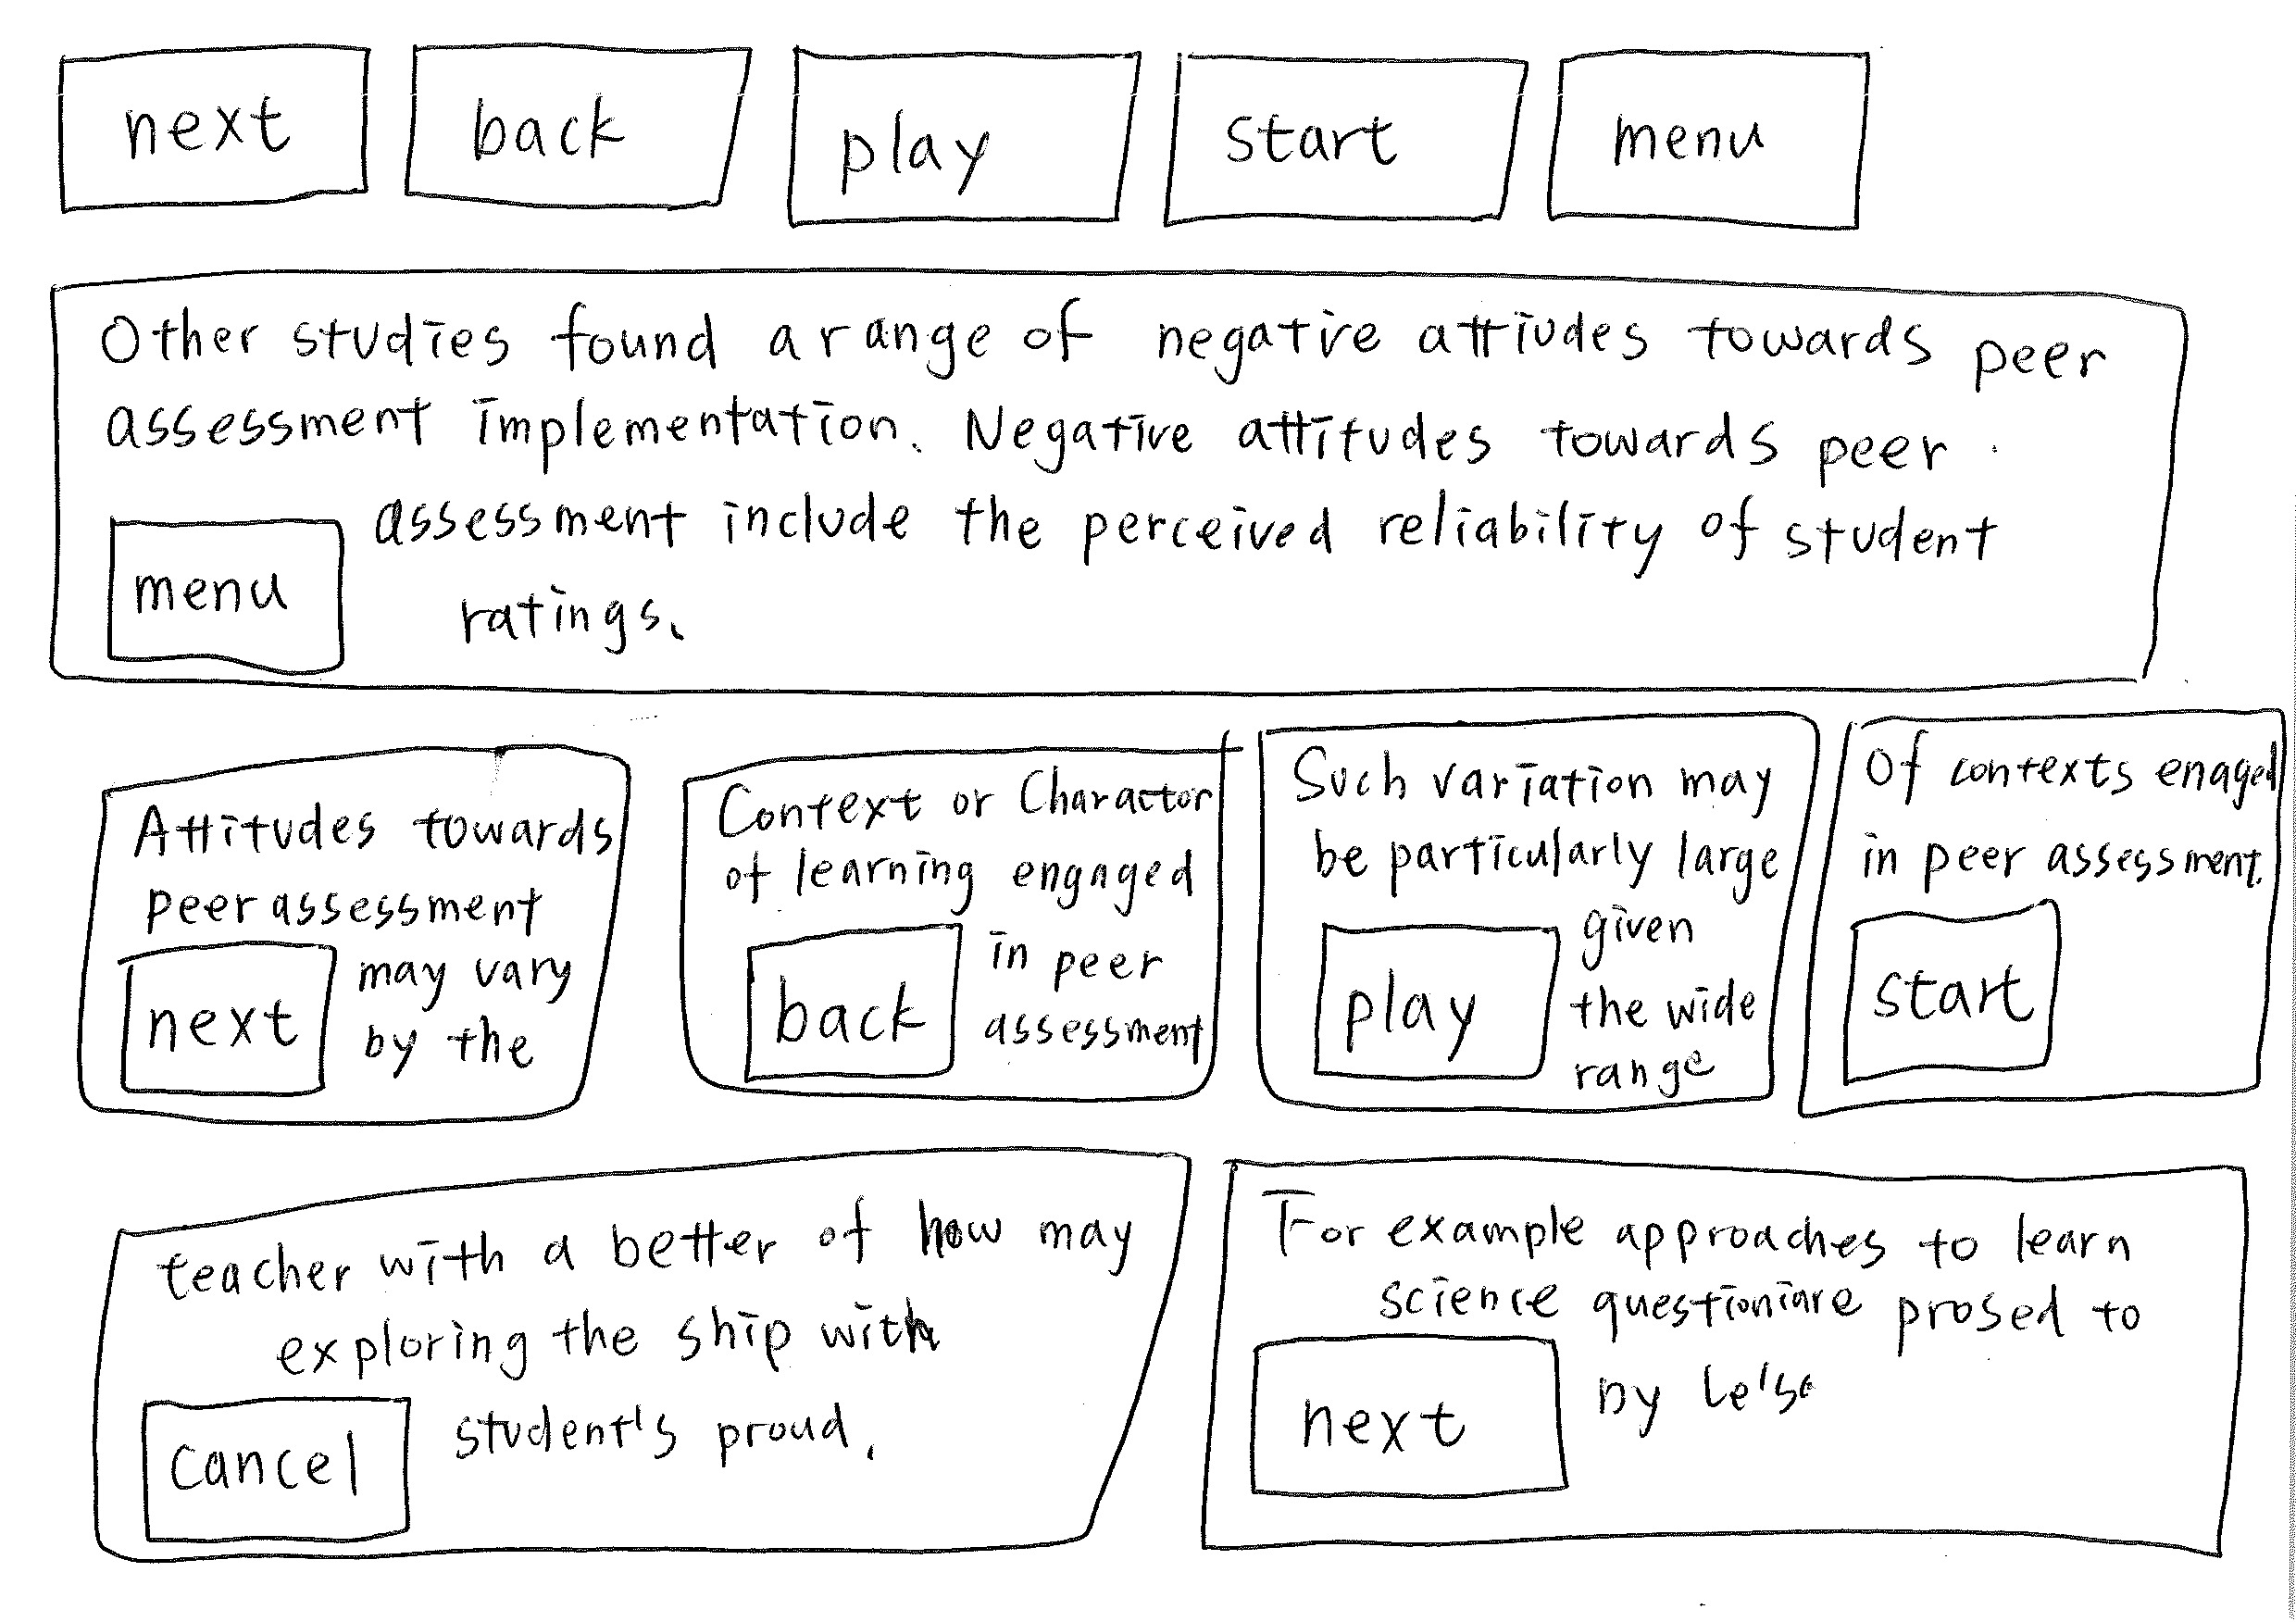back: (393, 18, 762, 230), (707, 915, 978, 1109)
cancel: (116, 1376, 437, 1564)
menu: (1529, 14, 1913, 265), (81, 500, 360, 700)
next: (32, 23, 384, 233), (1231, 1324, 1576, 1518), (93, 925, 346, 1125)
play: (771, 26, 1146, 239), (1295, 899, 1575, 1106)
quadruple: (68, 1123, 1220, 1601), (1195, 1127, 2296, 1604), (664, 709, 1243, 1136), (1231, 702, 1812, 1127), (58, 728, 637, 1153), (1776, 706, 2296, 1145)
row: (14, 248, 2296, 707), (16, 1123, 2296, 1580), (19, 688, 2289, 1146), (9, 7, 2296, 256)
single: (19, 235, 2252, 713)
small-title: (93, 297, 2117, 407), (716, 776, 1192, 911), (1285, 737, 1796, 827), (139, 786, 588, 876), (1869, 730, 2261, 818)
start: (1822, 892, 2078, 1104)
text: (381, 400, 2027, 665), (105, 391, 2013, 486), (144, 1204, 1144, 1366), (1248, 1188, 2170, 1315), (476, 1274, 967, 1475), (1590, 1245, 1894, 1425), (360, 888, 558, 1095), (1292, 841, 1775, 909), (1597, 913, 1761, 1083), (137, 871, 572, 932), (997, 920, 1173, 1069), (1857, 843, 2257, 895)
